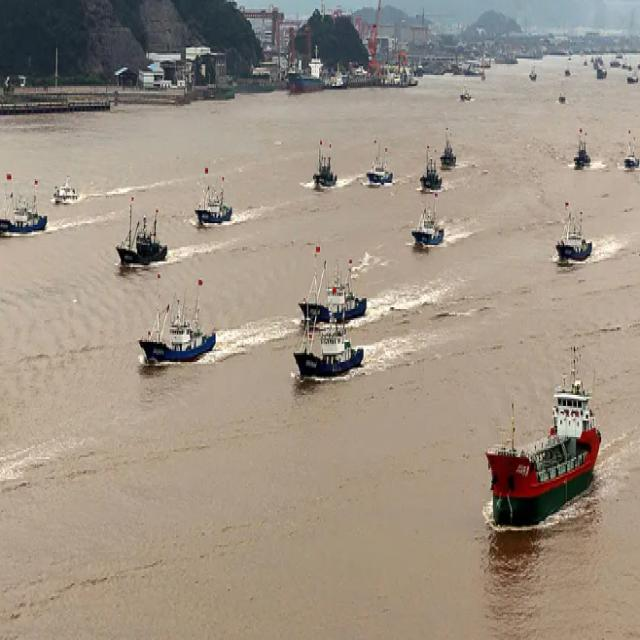cargoship: (484, 356, 602, 528)
fishing boat: (138, 271, 216, 365), (294, 310, 367, 385), (299, 248, 362, 325), (0, 172, 47, 239), (551, 200, 593, 271), (116, 201, 164, 263), (199, 162, 235, 230), (412, 203, 444, 248), (313, 135, 341, 186), (369, 140, 394, 189), (571, 124, 593, 171), (419, 146, 441, 193), (51, 170, 80, 204), (441, 121, 459, 165), (622, 128, 640, 170), (461, 80, 472, 107), (625, 66, 638, 84), (528, 66, 538, 83), (562, 63, 572, 80), (558, 88, 566, 108)
